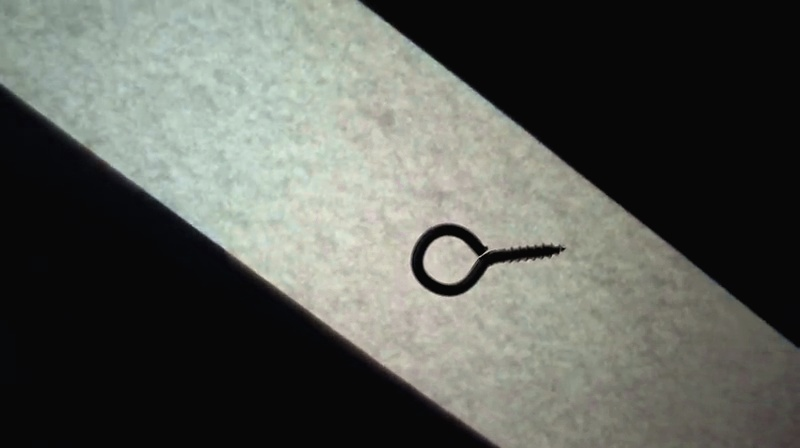O001: (408, 221, 571, 299)
